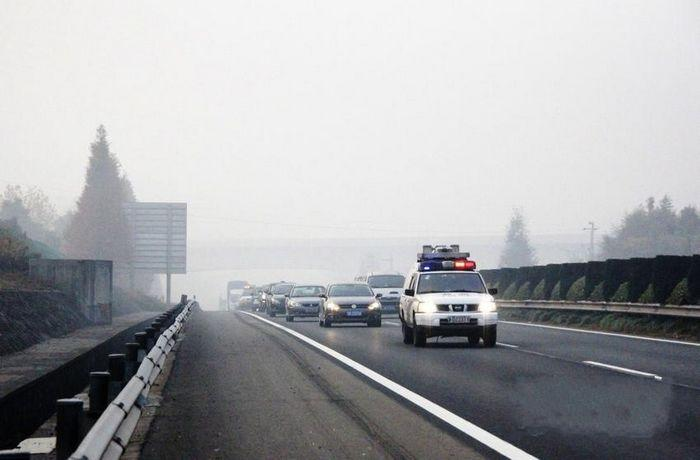bus: (227, 280, 250, 312)
car: (399, 244, 498, 346), (318, 282, 383, 328), (363, 272, 408, 315), (284, 285, 331, 321), (267, 283, 299, 318), (263, 281, 296, 314), (258, 285, 280, 314), (251, 287, 274, 313), (238, 289, 262, 310)
